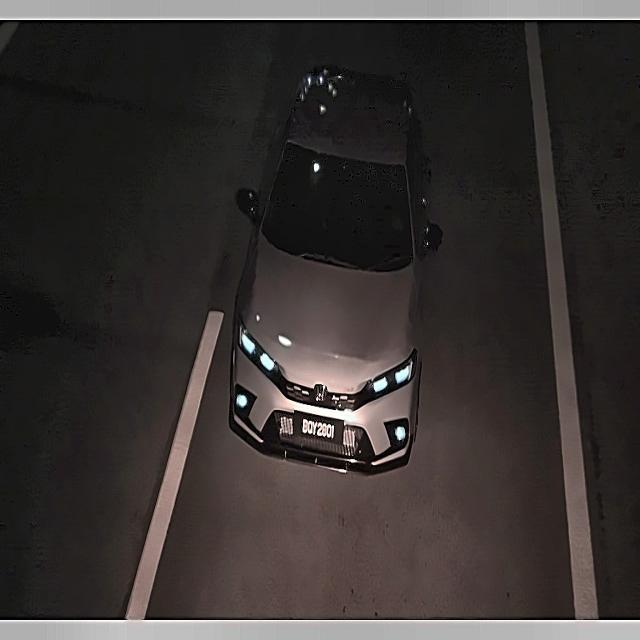car: (293, 407, 344, 450)
